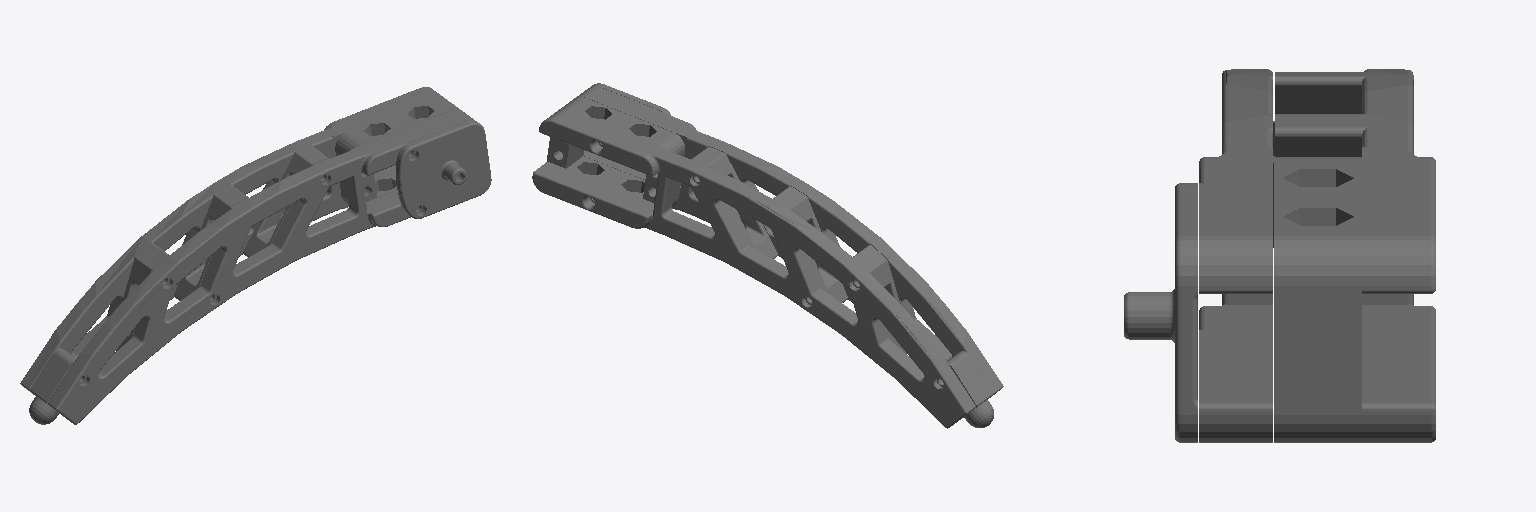
The robot description file, URDF, robot "onshape":
<robot name="onshape">
    <link name="world"/>

    <joint name="fixed" type="fixed">
        <parent link="world"/>
        <child link="body2"/>
    </joint>
    <link name="body2">
        <visual>
            <origin xyz="-2.0251919608103787686e-07 -9.3350295535953844076e-09 0.2000000000000000111" rpy="0 -0 0" />
            <geometry>
                <mesh filename="../meshes/body2.obj"/>
            </geometry>
            <material name="body2_material">
                <color rgba="0.49803921568627451677 0.49803921568627451677 0.49803921568627451677 1.0"/>
            </material>
        </visual>
        <collision>
            <origin xyz="-2.0251919608103787686e-07 -9.3350295535953844076e-09 0.2000000000000000111" rpy="0 -0 0" />
            <geometry>
                <mesh filename="../meshes/body2.obj"/>
            </geometry>
        </collision>
        <inertial>
            <origin xyz="4.8159086971461754611e-05 -0.0014156634461524751547 0.22478087637914107022" rpy="0 0 0"/>
            <mass value="1.3612542756189531801" />
            <inertia ixx="0.0077625706777320196972" ixy="2.5091052185424148231e-06" ixz="-5.8608327827100554163e-07" iyy="0.0063611320539585245251" iyz="-1.739803642137599792e-05" izz="0.013115144217312024733" />
        </inertial>
    </link>

    <link name="coxa">
        <visual>
            <origin xyz="0.044924999999999715161 3.2028136856521692566e-16 0.024449999999999999512" rpy="1.570796326794896336 4.1572969705147322145e-27 -6.0505089188012136129e-58" />
            <geometry>
                <mesh filename="../meshes/coxa.obj"/>
            </geometry>
            <material name="coxa_material">
                <color rgba="0.2313725490196078538 0.38039215686274507888 0.7058823529411765163 1.0"/>
            </material>
        </visual>
        <collision>
            <origin xyz="0.044924999999999715161 3.2028136856521692566e-16 0.024449999999999999512" rpy="1.570796326794896336 4.1572969705147322145e-27 -6.0505089188012136129e-58" />
            <geometry>
                <mesh filename="../meshes/coxa.obj"/>
            </geometry>
        </collision>
        <inertial>
            <origin xyz="0.032100077240121795141 0.0015740371043174818718 0.033819596679097937986" rpy="0 0 0"/>
            <mass value="0.13178847096179543974" />
            <inertia ixx="0.00011206373196826075725" ixy="-2.7238887323284798804e-06" ixz="4.5419611014534278721e-06" iyy="0.00015582474539323191054" iyz="1.6739702901874812073e-06" izz="8.7721551578304402452e-05" />
        </inertial>
    </link>

    <link name="femur">
        <visual>
            <origin xyz="0.11831370849898502351 0 0.034149999999999965106" rpy="2.5412593609926780274e-16 2.8723936427800494222e-16 4.0353255554885214929e-17" />
            <geometry>
                <mesh filename="../meshes/femur.obj"/>
            </geometry>
            <material name="femur_material">
                <color rgba="0.97254901960784312376 0.52941176470588235947 0.0039215686274509803377 1.0"/>
            </material>
        </visual>
        <collision>
            <origin xyz="0.11831370849898502351 0 0.034149999999999965106" rpy="2.5412593609926780274e-16 2.8723936427800494222e-16 4.0353255554885214929e-17" />
            <geometry>
                <mesh filename="../meshes/femur.obj"/>
            </geometry>
        </collision>
        <inertial>
            <origin xyz="0.060855439588990166422 -1.5373120777950829722e-09 0.035514840700278334229" rpy="0 0 0"/>
            <mass value="0.12356537633038003343" />
            <inertia ixx="0.00012639156802844351245" ixy="-3.3471051787725817595e-06" ixz="4.1877477426023482265e-07" iyy="0.00033659596516426965821" iyz="-1.0699466471115516508e-13" izz="0.00024640255809226478808" />
        </inertial>
    </link>

    <link name="tibia">
        <visual>
            <origin xyz="0.21300366849942781178 -0.059547886795041582442 0.034350000000001150446" rpy="4.3217611766192633508e-16 2.3241406019702971832e-16 -0.2730770352191039807" />
            <geometry>
                <mesh filename="../meshes/tibia.obj"/>
            </geometry>
            <material name="tibia_material">
                <color rgba="0.49803921568627451677 0.49803921568627451677 0.49803921568627451677 1.0"/>
            </material>
        </visual>
        <collision>
            <origin xyz="0.21300366849942781178 -0.059547886795041582442 0.034350000000001150446" rpy="4.3217611766192633508e-16 2.3241406019702971832e-16 -0.2730770352191039807" />
            <geometry>
                <mesh filename="../meshes/tibia.obj"/>
            </geometry>
        </collision>
        <inertial>
            <origin xyz="0.082779557898568056906 -0.01049832662442924669 0.033115642475337041251" rpy="0 0 0"/>
            <mass value="0.17582156291145253912" />
            <inertia ixx="9.4427777285217644708e-05" ixy="0.0001650846023614744142" ixz="-1.7210628936254655325e-05" iyy="0.00087082283180923134892" iyz="2.1968964051795956221e-06" izz="0.00091072918862152333567" />
        </inertial>
    </link>

    <joint name="Femur-Tibia1" type="revolute">
        <origin xyz="0.11831370849898502351 0 -6.9388939039072283776e-18" rpy="-6.0759172493477425425e-14 3.0838881427276329573e-15 -2.4958208303518918392" />
        <parent link="femur" />
        <child link="tibia" />
        <axis xyz="0 0 1"/>
    </joint>

    <joint name="Coxa-Femur1" type="revolute">
        <origin xyz="0.044924999999999742917 0.034150000000001574929 0.024449999999999999512" rpy="-1.570796326794896336 -0.78539816339743095952 3.141592653589793116" />
        <parent link="coxa" />
        <child link="femur" />
        <axis xyz="0 0 1"/>

    </joint>

    <joint name="Body-Coxa1" type="revolute">
        <origin xyz="-0.12499582345459463173 -2.791807616543980008e-06 0.1862000000000000044" rpy="1.344277160988364166e-25 5.5511151231271693717e-17 -3.141592653589793116" />
        <parent link="body2" />
        <child link="coxa" />
        <axis xyz="0 0 1"/>

    </joint>
</robot>

--- Facts derived from the render (not from the file) ---
3 views of the same robot in one strip: view 1: azimuth 30°, elevation 25°; view 2: azimuth 150°, elevation 25°; view 3: azimuth 270°, elevation 25° (orthographic).
Robot: onshape — 5 links, 4 joints (3 revolute, 1 fixed); root link world; default pose: all joints at 0.
Visible links, largest first — view 1: tibia; view 2: tibia; view 3: tibia.
Boxes of the visible links, box(x1,y1,x2,y2) form: tibia: box(20, 87, 491, 424); tibia: box(532, 83, 1003, 428); tibia: box(1124, 69, 1435, 442).
Size in the robot's own frame: 0.2269 by 0.055 by 0.1112 metres.
Meshes: 4 distinct files referenced, 1 mesh visuals loaded (1 OBJ); not drawn: 3 (reference not matched to a file when rendering).